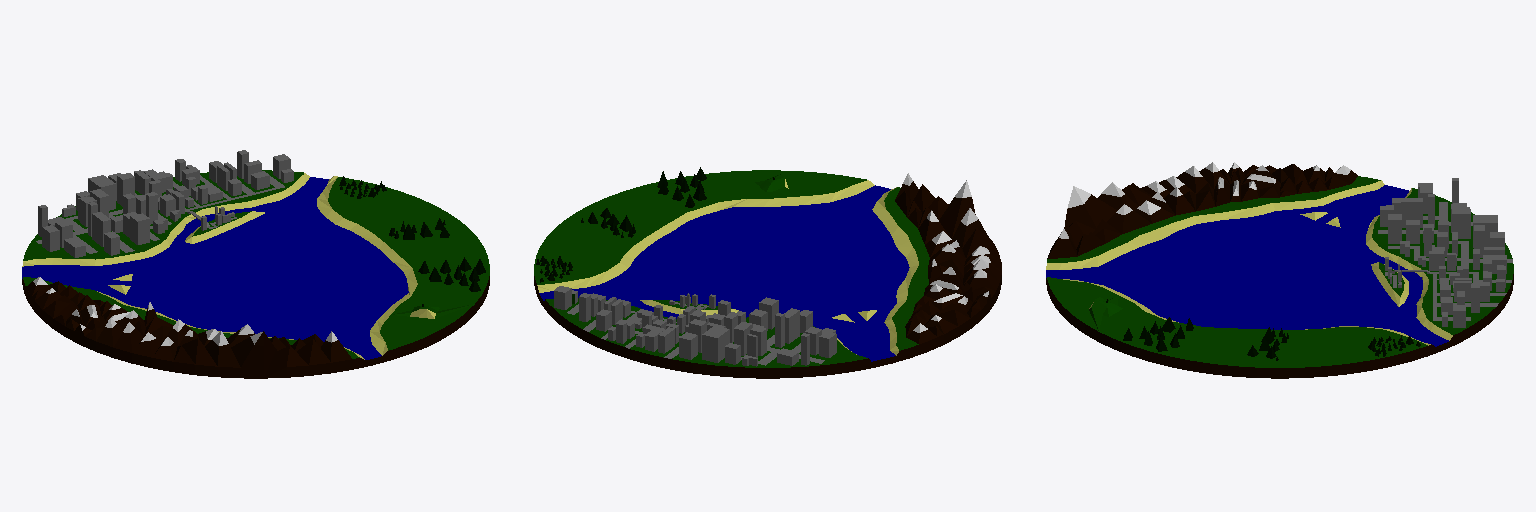
Rendered from map1.obj.
3 renders of one model, left to right at view 1: azimuth 30°, elevation 25°; view 2: azimuth 150°, elevation 25°; view 3: azimuth 270°, elevation 25°, orthographic.
Visible parts, largest first — view 1: Cylinder; view 2: Cylinder; view 3: Cylinder.
Boxes of the visible parts, x1,y1,x2,y2 form: Cylinder: [22, 150, 489, 378]; Cylinder: [534, 167, 1001, 378]; Cylinder: [1046, 162, 1513, 378].
Bounding box in the file's own units: 20 × 2.24 × 20.